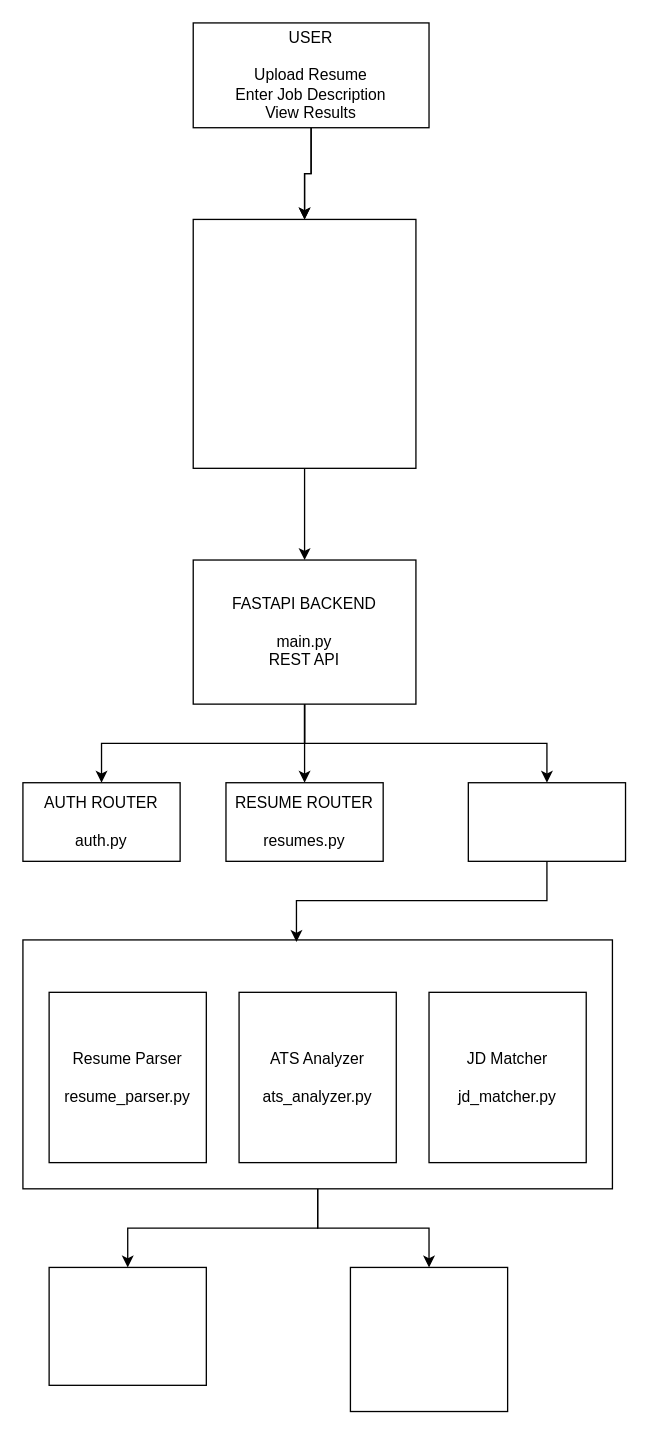
The diagram is 648 pixels wide and 1434 high, and some of its shapes have lost their labels. Here are the shapes that lost their labels. From the top down, the box of each, then its label:
(192, 218, 416, 468): REACT FRONTEND Dashboard Analysis History Compare Profile
(467, 781, 626, 861): ANALYSIS ROUTER analysis.py
(48, 1266, 206, 1385): FILE STORAGE Resume Uploads
(349, 1266, 508, 1412): DATABASE database.py models.py schemas.py
